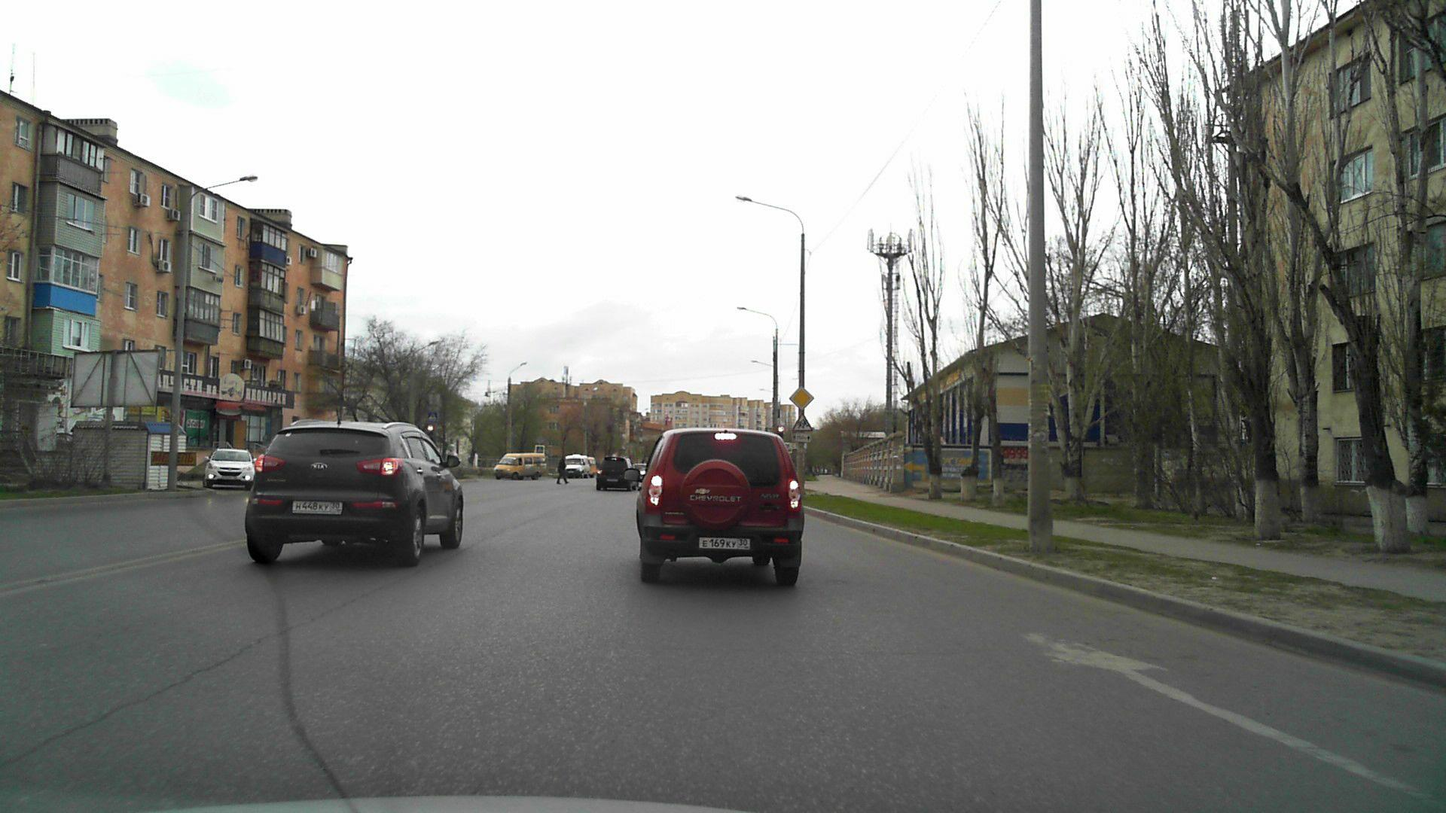road_sign: (789, 386, 814, 410), (791, 413, 813, 432)
